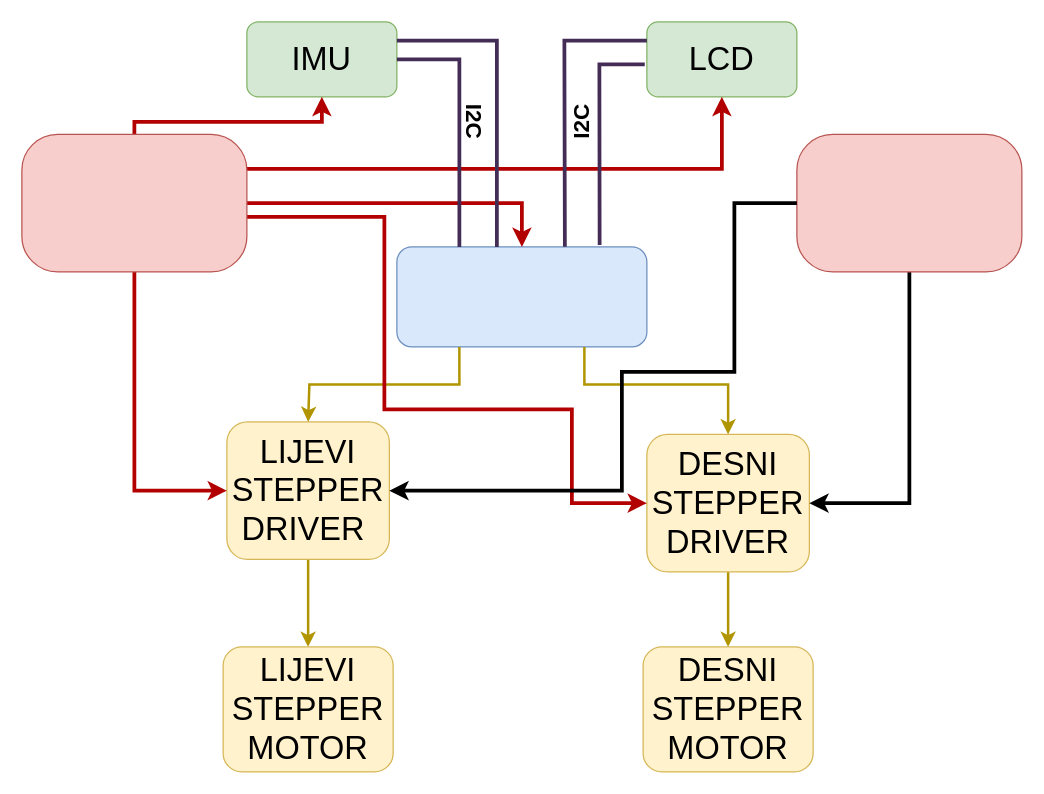
This 1044x794 diagram has some shape labels left out. Each missing label, with the centre of its shape:
12V NAPAJANJE: point 909,202
5V NAPAJANJE: point 134,202
MCU: point 521,296
